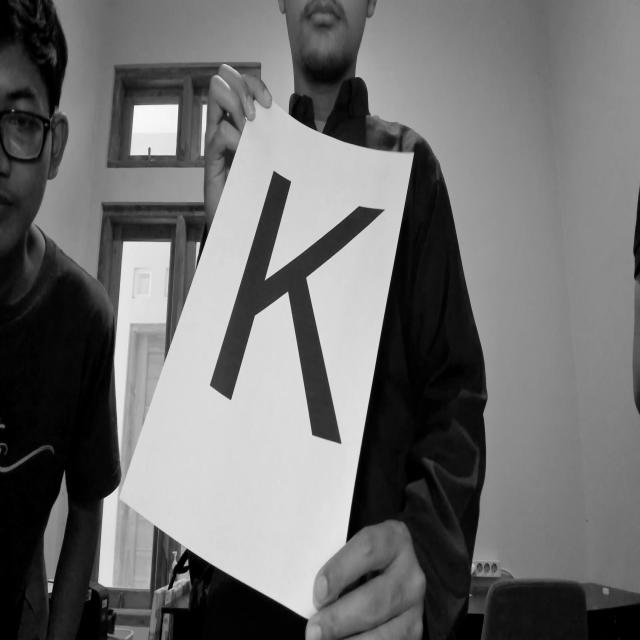k: (197, 120, 389, 481)
